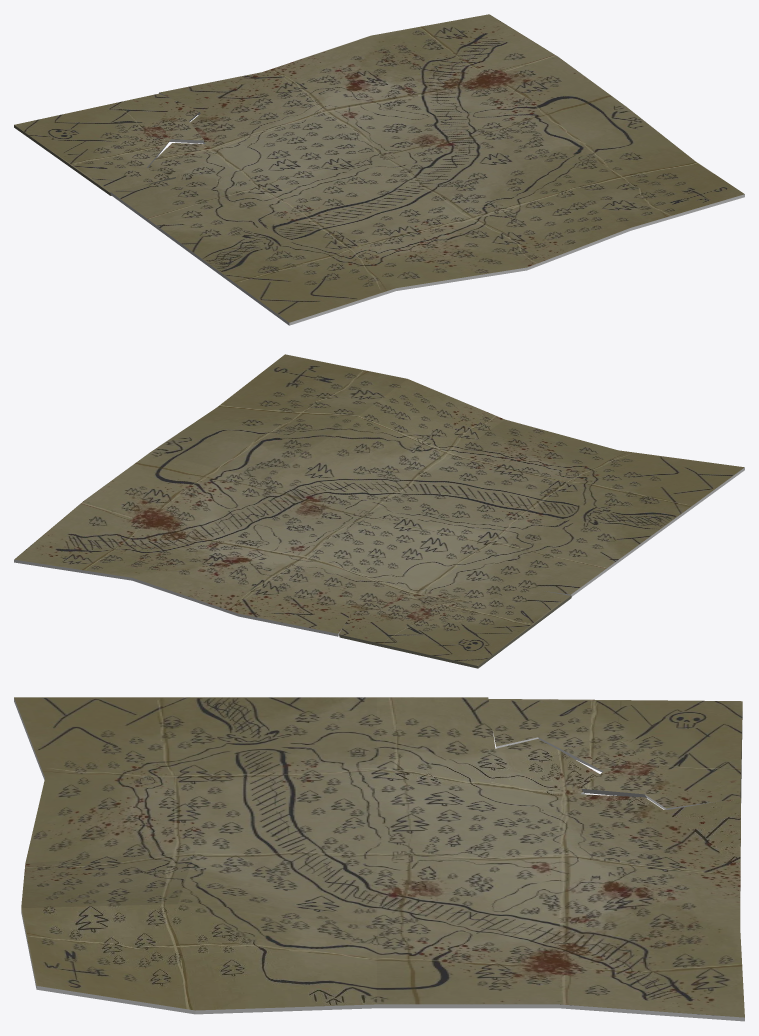
File: Map_small.fbx
The picture shows the model from 3 angles, top to bottom: view 1: azimuth 30°, elevation 25°; view 2: azimuth 150°, elevation 25°; view 3: azimuth 270°, elevation 25°; orthographic projection. The views are drawn at different scales.
Parts seen in each view (by area): view 1: Large Map Piece, Cube; view 2: Large Map Piece, Cube; view 3: Large Map Piece, Cube.
Boxes of the visible parts, x1,y1,x2,y2 form: Large Map Piece: (110,14,744,325); Cube: (14,93,204,195); Large Map Piece: (14,354,744,636); Cube: (339,584,571,668); Large Map Piece: (14,697,744,1021); Cube: (488,699,742,809).
Size of the model in its own units: 602 by 28.53 by 604.
